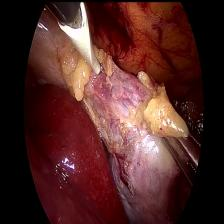Grasper: (157, 113, 200, 183)
Hook: (57, 4, 106, 74)
